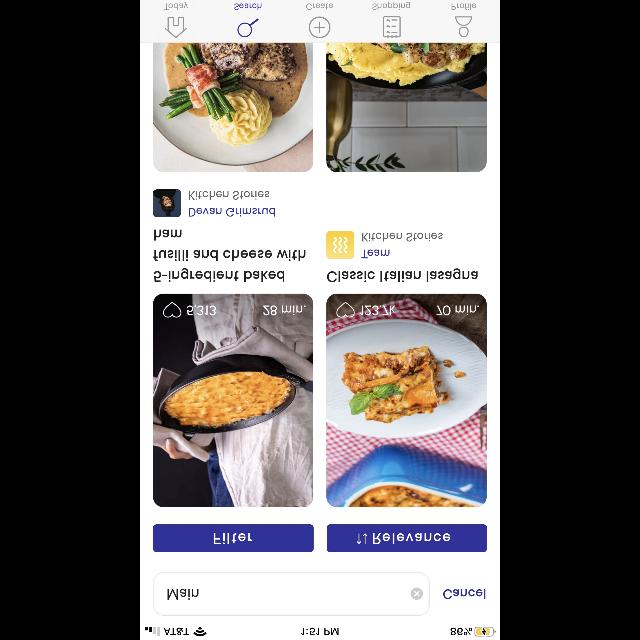icon: (165, 17, 187, 39), (309, 16, 331, 38), (238, 18, 258, 38), (384, 16, 401, 38), (456, 16, 472, 38), (164, 301, 182, 317), (337, 302, 355, 318), (411, 587, 423, 599)
image: (153, 294, 313, 506), (327, 294, 487, 506), (153, 42, 313, 172), (327, 44, 487, 172), (153, 189, 181, 217), (326, 231, 354, 259)
input: (154, 572, 430, 616)
text: (154, 230, 306, 282), (327, 268, 478, 282), (363, 232, 443, 242), (189, 208, 275, 216), (189, 192, 269, 200), (262, 305, 306, 315), (443, 589, 485, 599), (437, 305, 479, 315), (168, 588, 198, 600), (187, 304, 216, 316), (360, 305, 394, 315), (372, 2, 410, 10), (361, 250, 389, 258), (164, 2, 188, 10), (234, 4, 262, 10), (306, 4, 334, 10), (452, 4, 476, 10)
textbutton: (153, 524, 313, 552), (327, 524, 487, 552)
uppertaskbar: (140, 626, 500, 640)
